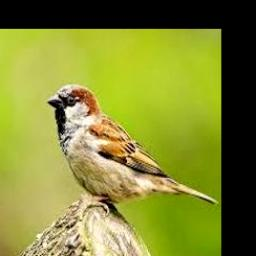Sparrow: (46, 83, 218, 216)
